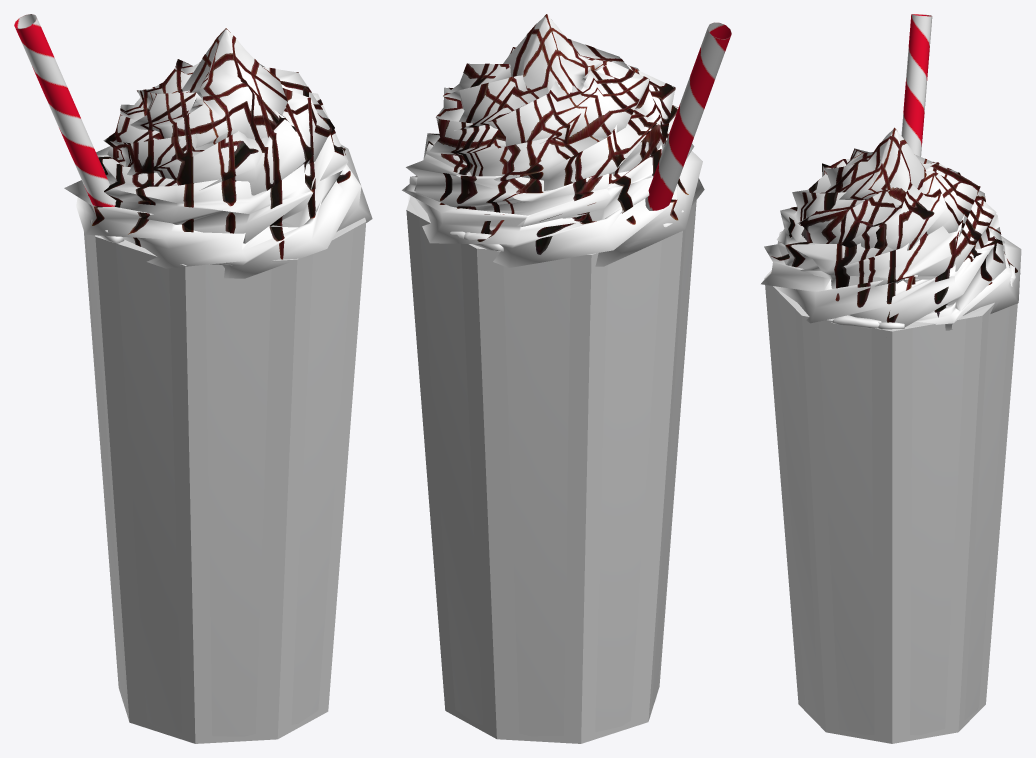
The model's file is CupGlass.fbx.
The picture shows the model from 3 angles, left to right: view 1: azimuth 30°, elevation 25°; view 2: azimuth 150°, elevation 25°; view 3: azimuth 270°, elevation 25°; orthographic projection. The views are drawn at different scales.
Visible parts, largest first — view 1: Glass Cup_Col, Cream, Cream_Top, Straw; view 2: Glass Cup_Col, Cream, Cream_Top, Straw; view 3: Glass Cup_Col, Cream, Cream_Top, Straw.
Boxes of the visible parts, left/top/right/bottom form: Glass Cup_Col: left=84, top=217, right=366, bottom=743; Cream: left=64, top=29, right=372, bottom=278; Cream_Top: left=88, top=28, right=350, bottom=259; Straw: left=14, top=14, right=116, bottom=206; Glass Cup_Col: left=406, top=196, right=696, bottom=743; Cream: left=402, top=16, right=704, bottom=267; Cream_Top: left=416, top=14, right=688, bottom=254; Straw: left=645, top=22, right=731, bottom=210; Glass Cup_Col: left=764, top=270, right=1017, bottom=743; Cream: left=761, top=129, right=1021, bottom=330; Cream_Top: left=771, top=127, right=1017, bottom=322; Straw: left=901, top=14, right=932, bottom=156.
Bounding box in the file's own units: 0.0973 × 0.08 × 0.2081.
